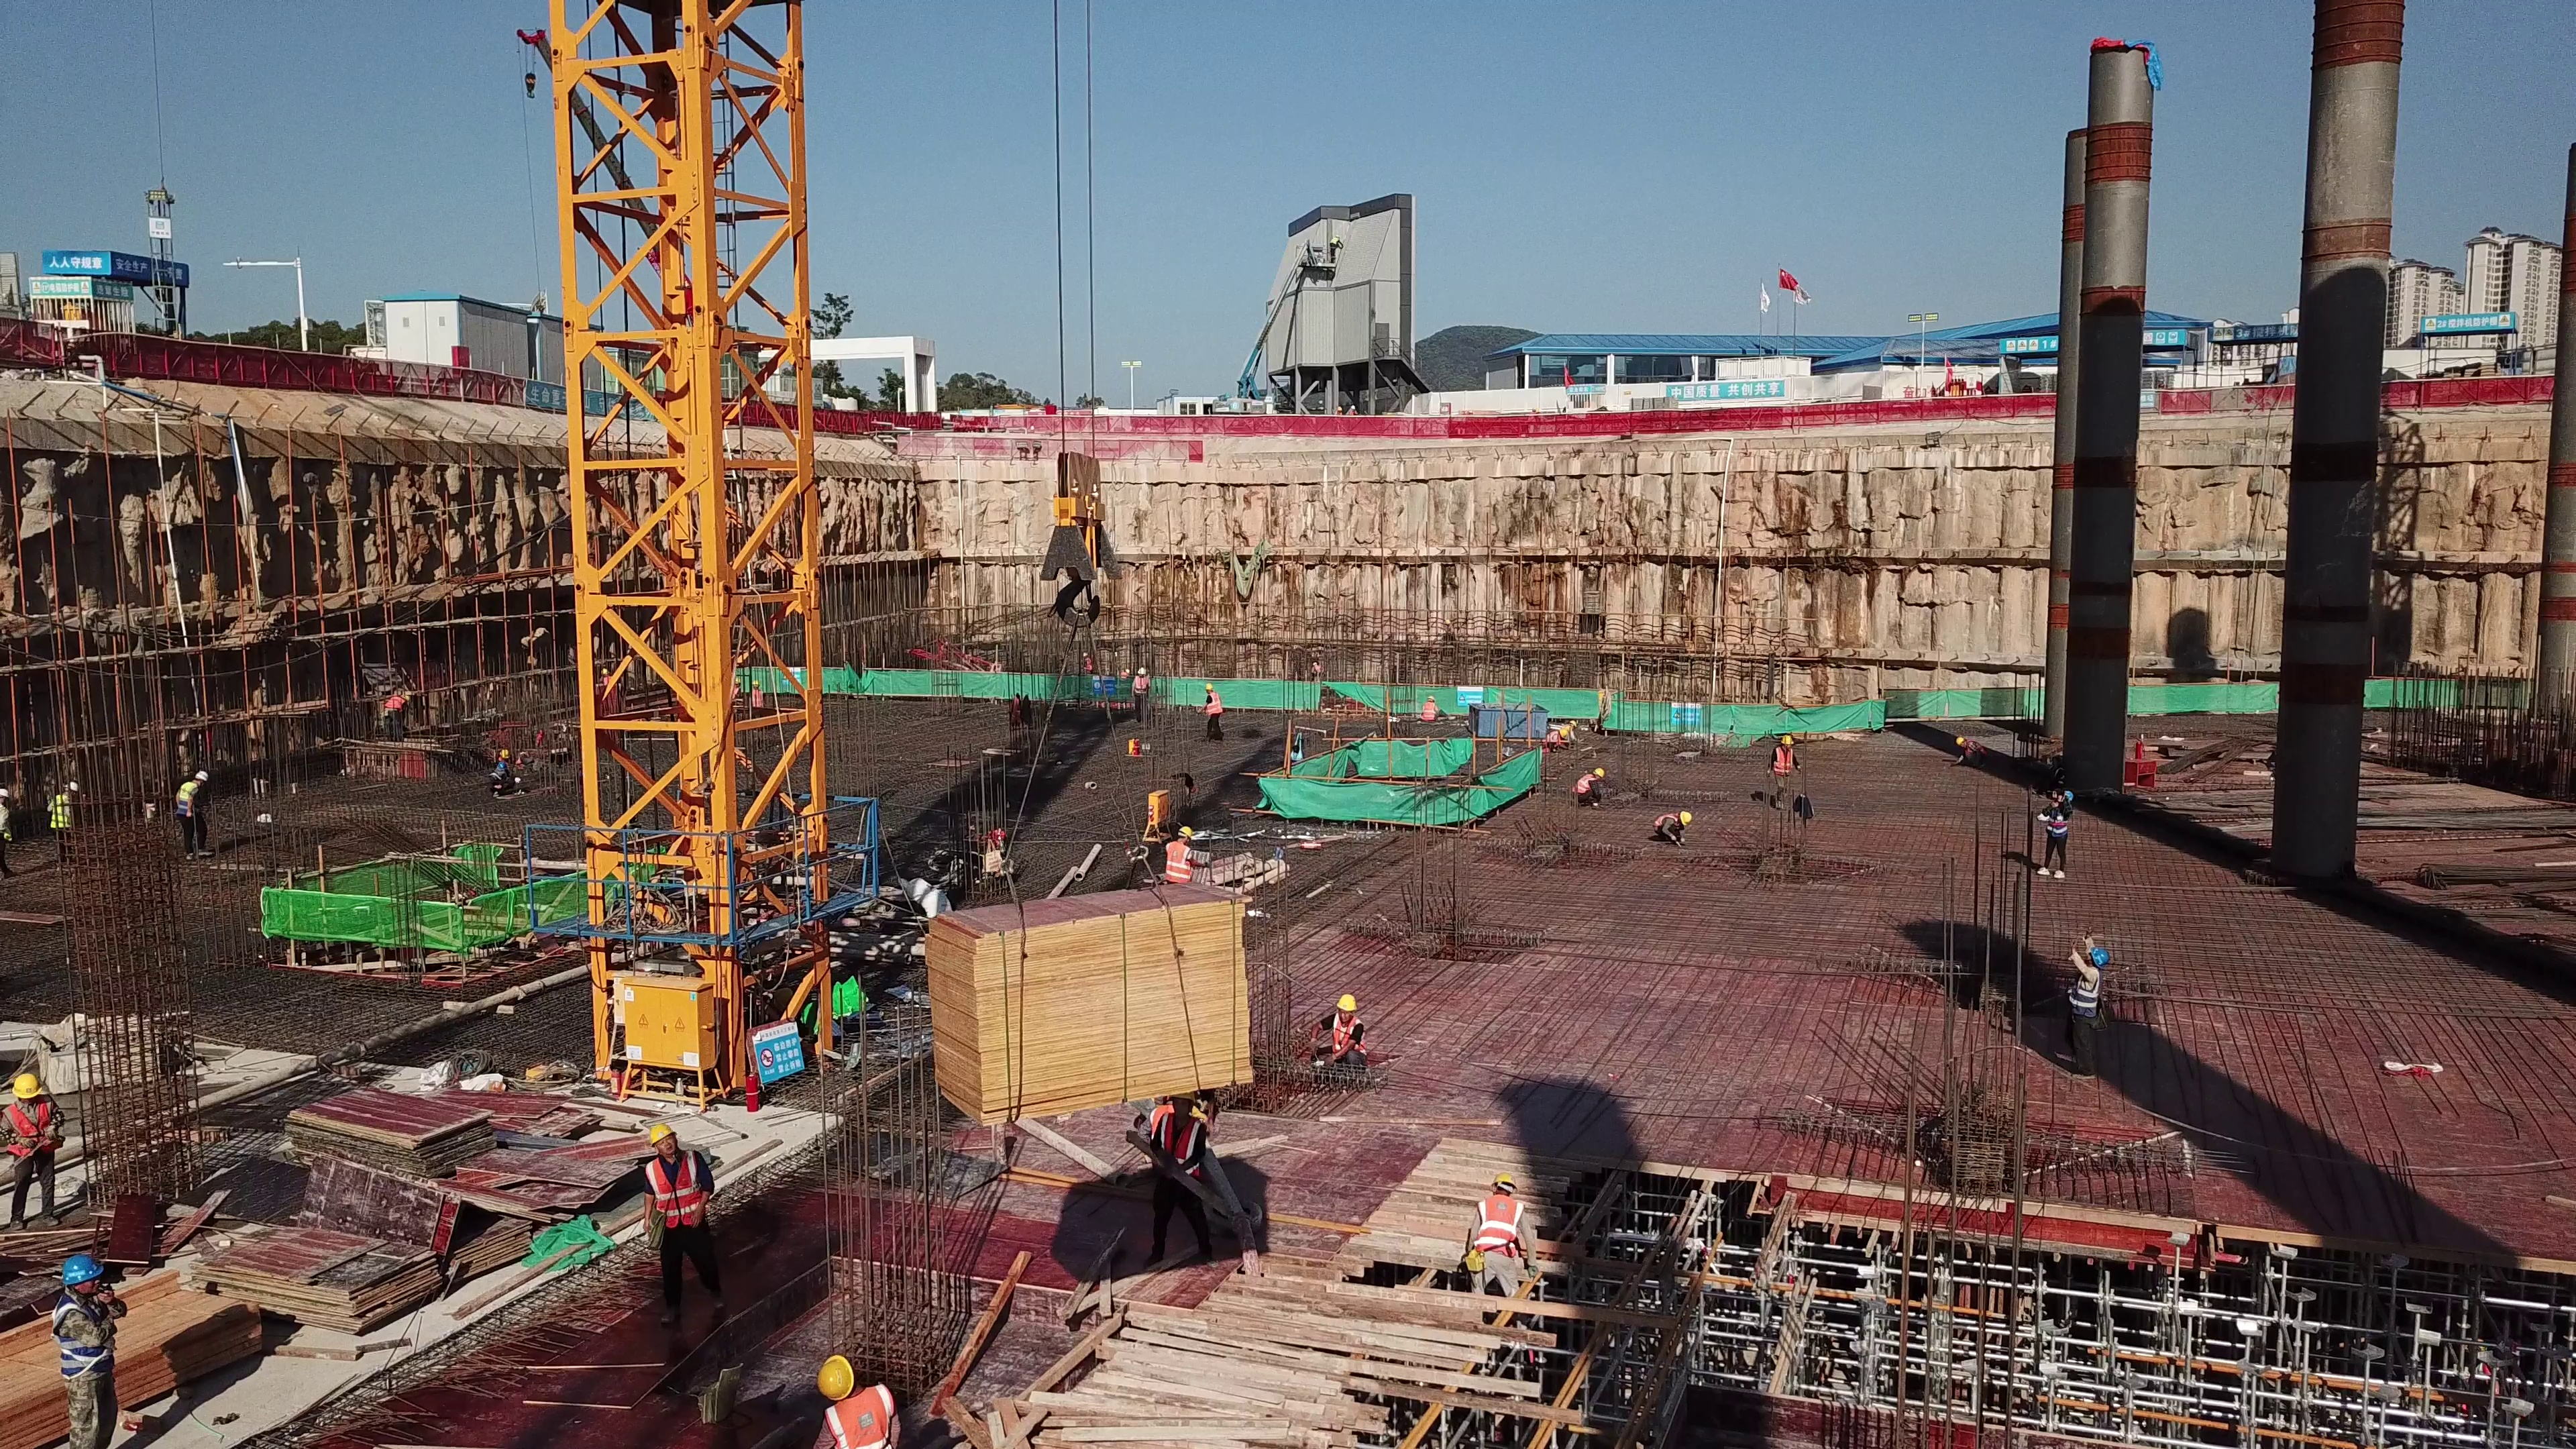board: (233, 1075, 595, 1306), (932, 903, 1252, 1126)
brick: (1628, 398, 1680, 412)
ebox: (613, 977, 718, 1102), (1146, 792, 1171, 841)
fence: (168, 339, 484, 409), (1698, 403, 2000, 429)
helmet: (58, 1246, 104, 1281), (815, 1361, 855, 1394), (9, 1071, 49, 1104), (643, 1113, 677, 1147), (2090, 944, 2114, 969), (1335, 992, 1360, 1015), (1489, 1168, 1517, 1186), (1675, 810, 1697, 826), (65, 775, 85, 791), (1776, 733, 1796, 749), (195, 769, 213, 786), (1173, 822, 1191, 835), (1955, 733, 1967, 746), (2059, 791, 2072, 804), (1593, 768, 1605, 783), (1559, 729, 1569, 740), (1570, 718, 1580, 729), (1203, 681, 1214, 690), (496, 760, 505, 770), (1137, 667, 1148, 675), (1426, 692, 1434, 700)
hook: (1040, 445, 1117, 633), (519, 75, 557, 113)
hopper: (1464, 698, 1548, 745)
person: (641, 1104, 731, 1328), (52, 1252, 141, 1435), (5, 1069, 81, 1223), (1463, 1169, 1541, 1310), (1155, 1089, 1211, 1265), (808, 1348, 902, 1449), (2063, 928, 2121, 1063), (172, 761, 227, 870), (1309, 993, 1385, 1068), (44, 774, 91, 872), (2037, 780, 2080, 881), (1764, 729, 1803, 817), (1159, 820, 1201, 890), (1645, 807, 1700, 855), (1565, 766, 1615, 818), (1193, 682, 1232, 744), (1, 788, 21, 884), (1948, 729, 1996, 770), (376, 691, 415, 738), (1132, 661, 1159, 724), (485, 749, 514, 797), (747, 676, 774, 720), (1415, 695, 1448, 724), (1554, 712, 1585, 745), (1074, 653, 1101, 673), (1310, 657, 1327, 685), (1114, 667, 1138, 680), (1330, 404, 1348, 419), (1344, 403, 1359, 415)
slogan: (496, 376, 675, 430), (13, 267, 111, 318), (117, 256, 225, 298), (48, 234, 129, 283), (1666, 380, 1787, 400), (2007, 336, 2186, 347), (2218, 323, 2303, 341), (2425, 314, 2511, 329)
vest: (649, 1155, 710, 1226), (60, 1296, 117, 1368), (1165, 1113, 1205, 1181), (828, 1407, 889, 1447), (1479, 1201, 1521, 1258), (9, 1105, 55, 1149), (1331, 1018, 1373, 1056), (2075, 969, 2104, 1017), (1167, 843, 1198, 879), (50, 790, 72, 830), (1569, 773, 1600, 798), (173, 784, 197, 814), (1774, 748, 1794, 777), (2047, 806, 2065, 836), (1966, 741, 1984, 764), (1654, 811, 1676, 825), (1207, 693, 1222, 717), (1423, 703, 1439, 718), (1136, 677, 1150, 695), (1546, 729, 1560, 744)
wood: (1041, 1273, 1471, 1449)
